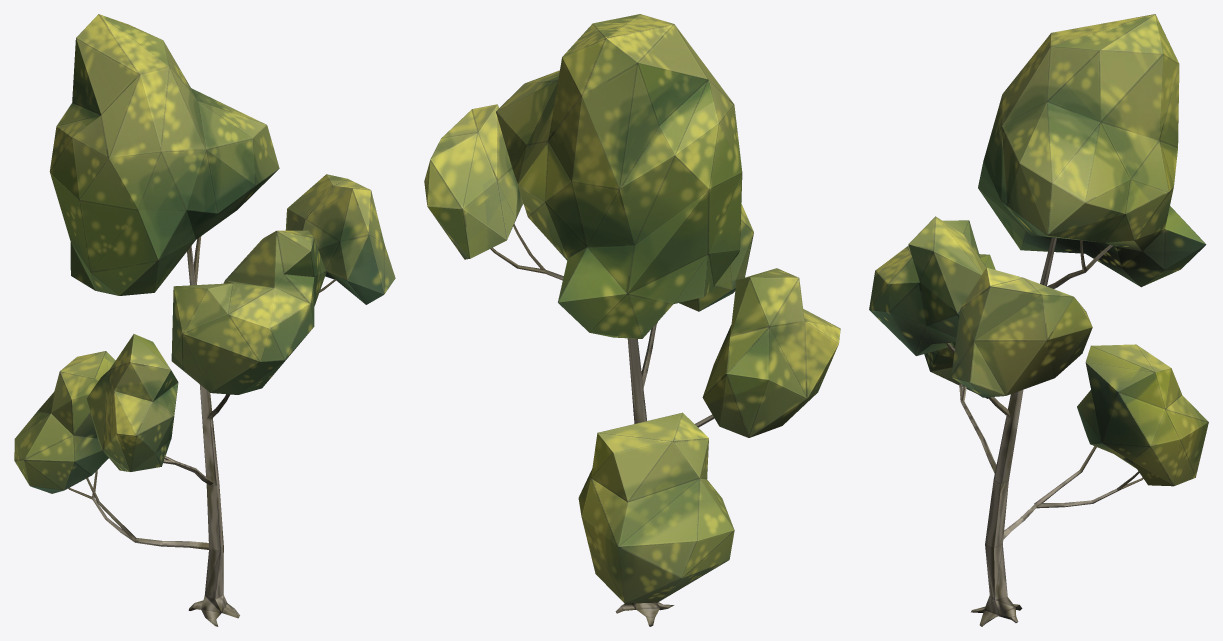
File: low_poly_tree.gltf
3 views of the same model, side by side, from view 1: azimuth 30°, elevation 25°; view 2: azimuth 150°, elevation 25°; view 3: azimuth 270°, elevation 25° (orthographic). The views are drawn at different scales.
Visible parts, largest first — view 1: Icosphere.001_mat.tree-elm_0.001; view 2: Icosphere.001_mat.tree-elm_0.001; view 3: Icosphere.001_mat.tree-elm_0.001.
Boxes of the visible parts, box(x1,y1,x2,y2) form: Icosphere.001_mat.tree-elm_0.001: box(14, 14, 395, 626); Icosphere.001_mat.tree-elm_0.001: box(424, 14, 840, 626); Icosphere.001_mat.tree-elm_0.001: box(869, 14, 1208, 626).
Bounding box in the file's own units: 4.79 × 8.48 × 4.48.
1 material, 1 textured.
